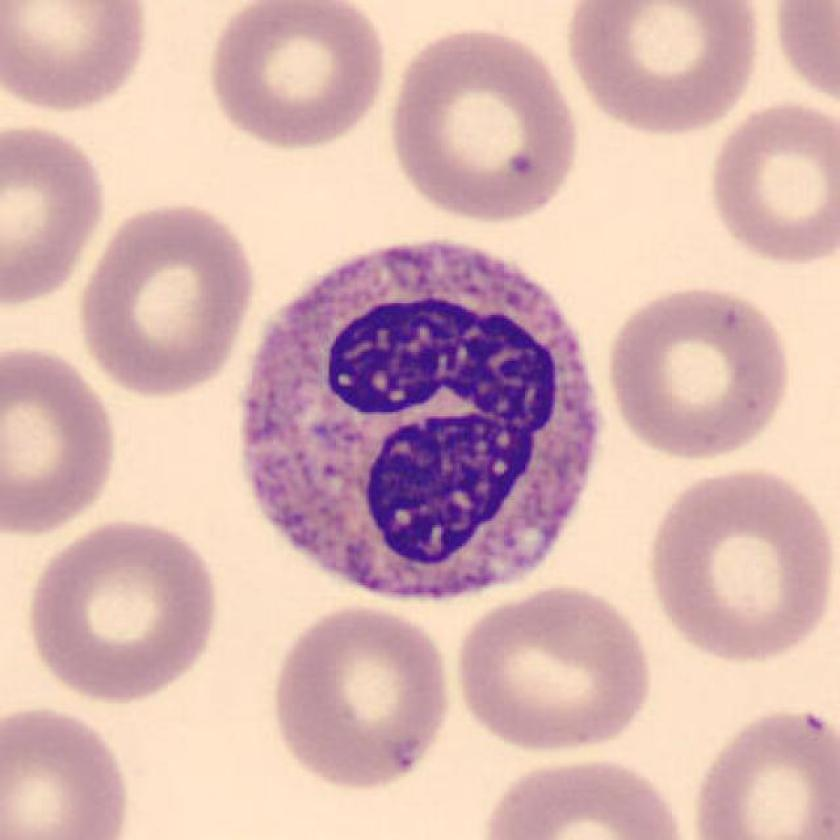neutrophil: (241, 240, 592, 598)
